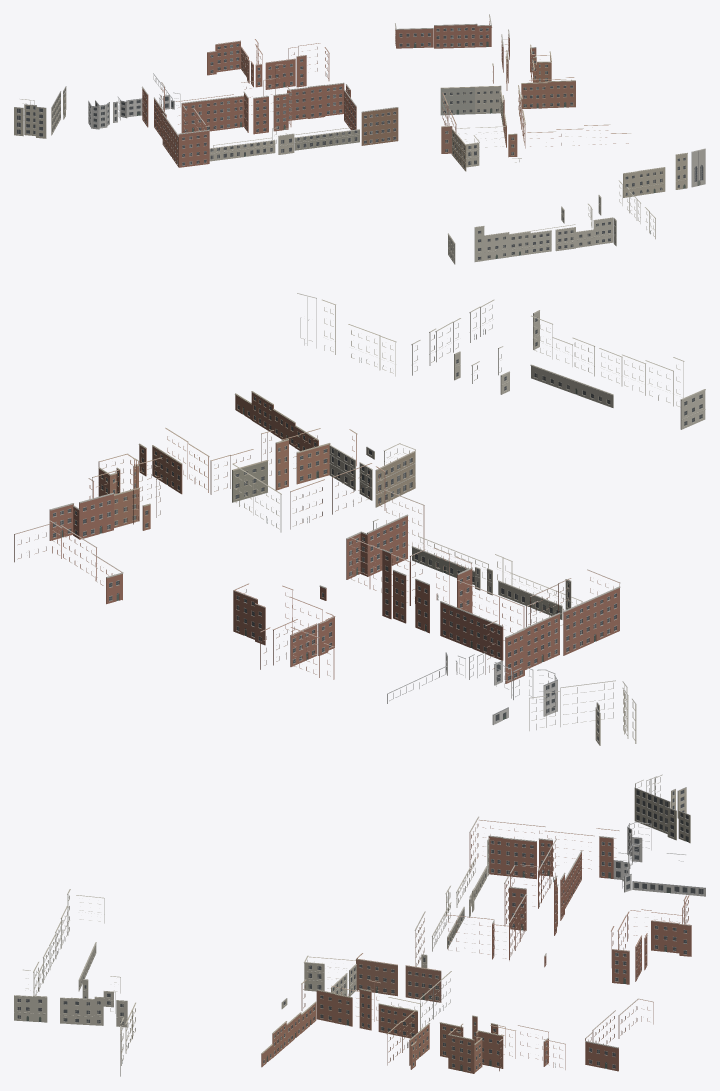
3 views of the same model, one above another, from view 1: azimuth 30°, elevation 25°; view 2: azimuth 150°, elevation 25°; view 3: azimuth 270°, elevation 25° (orthographic). The views are drawn at different scales.
Parts seen in each view (by area): view 1: f:way/158913912, f:way/166155984, f:way/158932407, f:way/158913888, f:way/158913917, f:way/158913946, f:way/158913891, f:way/158932420, f:way/158913929, f:way/166155986, f:way/158913908, f:way/158913951 (+4 smaller); view 2: f:way/158913912, f:way/158913888, f:way/158932407, f:way/166155984, f:way/158913908, f:way/158913917, f:way/158913951, f:way/158913929, f:way/158913905, f:way/158932420, f:way/158913946, f:relation/9449786 (+1 smaller); view 3: f:way/158913912, f:way/158913888, f:relation/9449786, f:way/158932407, f:way/158913951, f:way/158913894, f:way/158932420, f:way/158913929, f:way/158913946, f:way/158913917, f:way/158913908, f:way/166155984.
Boxes of the visible parts, x1,y1,x2,y2 form: f:way/158913912: (142, 64, 398, 167); f:way/166155984: (448, 217, 616, 264); f:way/158932407: (207, 39, 329, 89); f:way/158913888: (500, 77, 630, 157); f:way/158913917: (204, 125, 359, 161); f:way/158913946: (395, 14, 492, 48); f:way/158913891: (440, 85, 501, 115); f:way/158932420: (14, 86, 66, 138); f:way/158913929: (88, 73, 180, 129); f:way/166155986: (623, 167, 665, 197); f:way/158913908: (451, 126, 505, 171); f:way/158913951: (492, 44, 551, 90); f:way/158913912: (319, 489, 620, 683); f:way/158913888: (138, 391, 357, 502); f:way/158932407: (233, 583, 335, 679); f:way/166155984: (530, 310, 705, 429); f:way/158913908: (329, 443, 415, 507); f:way/158913917: (412, 536, 582, 619); f:way/158913951: (92, 453, 162, 530); f:way/158913929: (387, 652, 557, 724); f:way/158913905: (73, 478, 113, 539); f:way/158932420: (529, 680, 636, 745); f:way/158913946: (14, 520, 123, 604); f:relation/9449786: (411, 299, 509, 394); f:way/158913912: (414, 816, 619, 967); f:way/158913888: (261, 979, 429, 1069); f:relation/9449786: (14, 976, 127, 1027); f:way/158932407: (611, 895, 691, 984); f:way/158913951: (439, 1015, 515, 1073); f:way/158913894: (356, 953, 441, 1002); f:way/158932420: (634, 774, 690, 843); f:way/158913929: (613, 822, 705, 896); f:way/158913946: (585, 998, 653, 1071); f:way/158913917: (432, 838, 489, 951); f:way/158913908: (304, 955, 356, 996); f:way/166155984: (23, 889, 104, 995).
Size of the model in its own units: 241 by 25.63 by 259.
